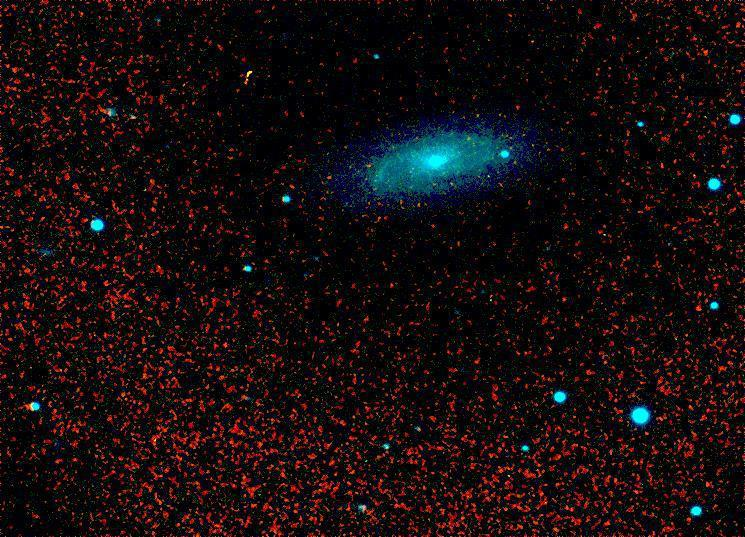star: (232, 59, 262, 89)
